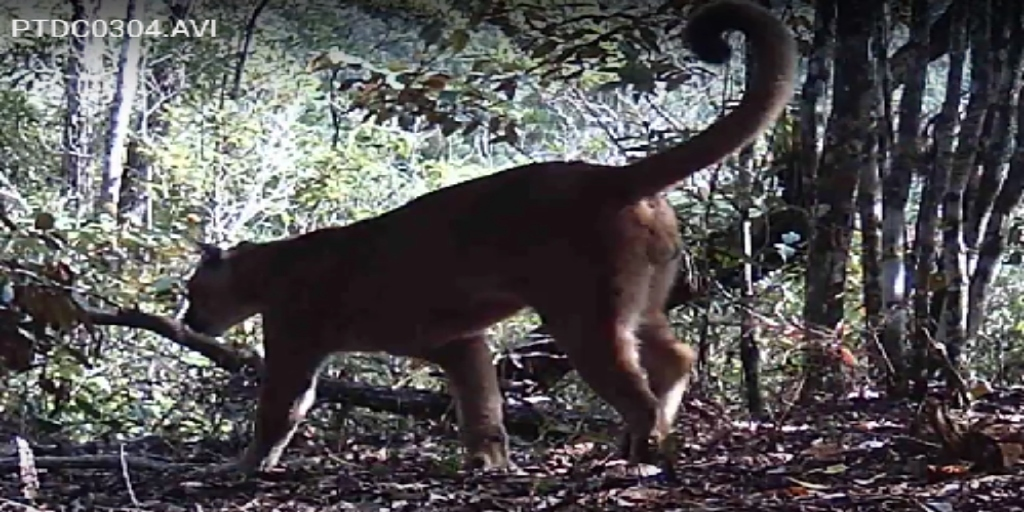OncaParda: (171, 5, 799, 483)
